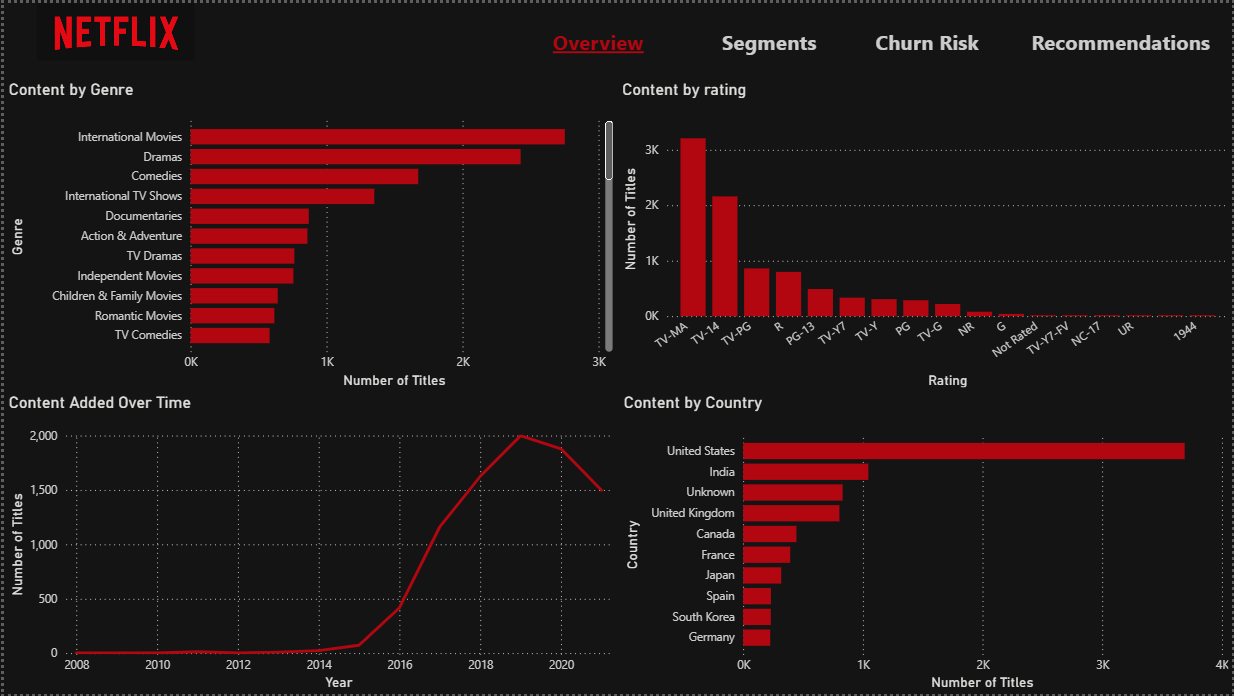

The page's visual inventory and layout, read from the dashboard file:
{"tool":"powerbi","page":{"name":"Content Overview","canvas":[1280,720],"ordinal":1},"visuals":[{"type":"clusteredBarChart","title":"Content by Genre","fields":{"Category":["dashboard_genre_distribution.genre_list"],"Y":["CountNonNull(dashboard_genre_distribution.title)"]},"box":[0,80.3,639,325.6],"z":0},{"type":"clusteredBarChart","title":"Content by Country","fields":{"Category":["dashboard_country_distribution.country_list"],"Y":["CountNonNull(dashboard_country_distribution.title)"]},"box":[641.1,405.8,639.7,314.3],"z":1000},{"type":"clusteredColumnChart","title":"Content by rating","fields":{"Category":["dashboard_catalog_overview.rating"],"Y":["CountNonNull(dashboard_catalog_overview.title)"]},"box":[639,80.3,640.5,325.6],"z":2000},{"type":"lineChart","title":"Content Added Over Time","fields":{"Category":["dashboard_catalog_overview.date_added.Variation.Date Hierarchy.Year"],"Y":["CountNonNull(dashboard_catalog_overview.show_id)"]},"box":[0,405.8,640,314],"z":3000},{"type":"actionButton","title":"Overview","box":[529.8,20.4,178.7,39.4],"z":4000},{"type":"actionButton","title":"Segments","box":[708.9,20.4,175.6,39.4],"z":5000},{"type":"actionButton","title":"Churn Risk","box":[885,20.4,154.4,39.4],"z":6000},{"type":"actionButton","title":"Recommendations","box":[1065.5,20.4,195.3,39.4],"z":7000},{"type":"image","box":[0,0,232.1,60],"z":8000}]}

Visuals, with their boxes in screenshot pixels (x1, y1, x2, y2), scaled from the page's 1280x720 canvas onto the 1234x696 screenshot:
"Content by Genre" clusteredBarChart: detection(0, 78, 616, 392)
"Content by Country" clusteredBarChart: detection(618, 392, 1233, 695)
"Content by rating" clusteredColumnChart: detection(616, 78, 1233, 392)
"Content Added Over Time" lineChart: detection(0, 392, 617, 695)
"Overview" actionButton: detection(511, 20, 683, 58)
"Segments" actionButton: detection(683, 20, 853, 58)
"Churn Risk" actionButton: detection(853, 20, 1002, 58)
"Recommendations" actionButton: detection(1027, 20, 1215, 58)
image: detection(0, 0, 224, 58)
